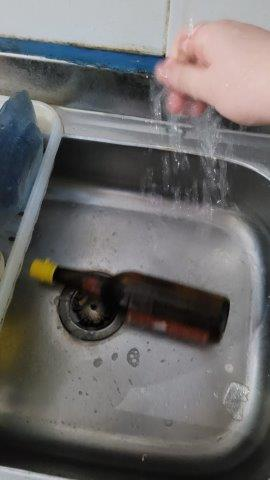botolkaca: (26, 258, 232, 348)
